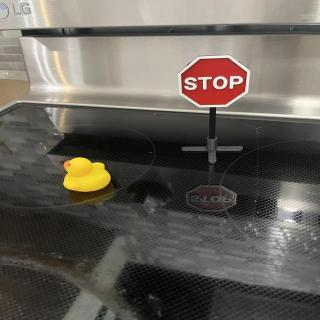duck_regular: (63, 157, 113, 194)
sign_stop: (179, 56, 251, 109)
